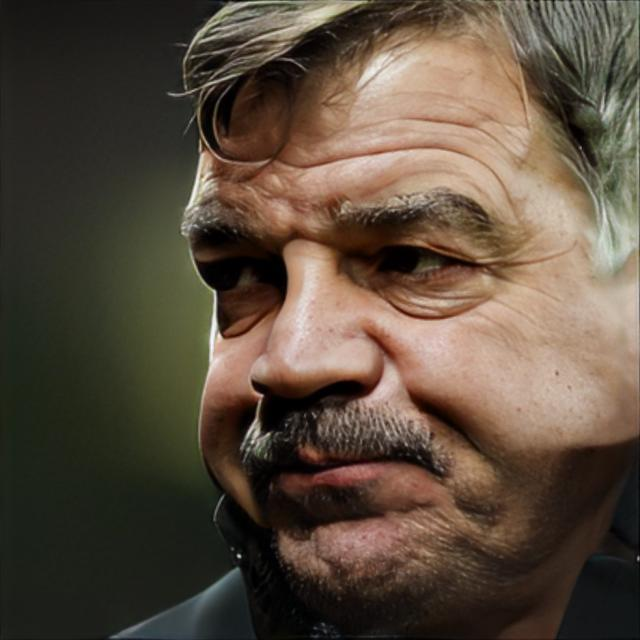anger: (184, 39, 628, 617)
